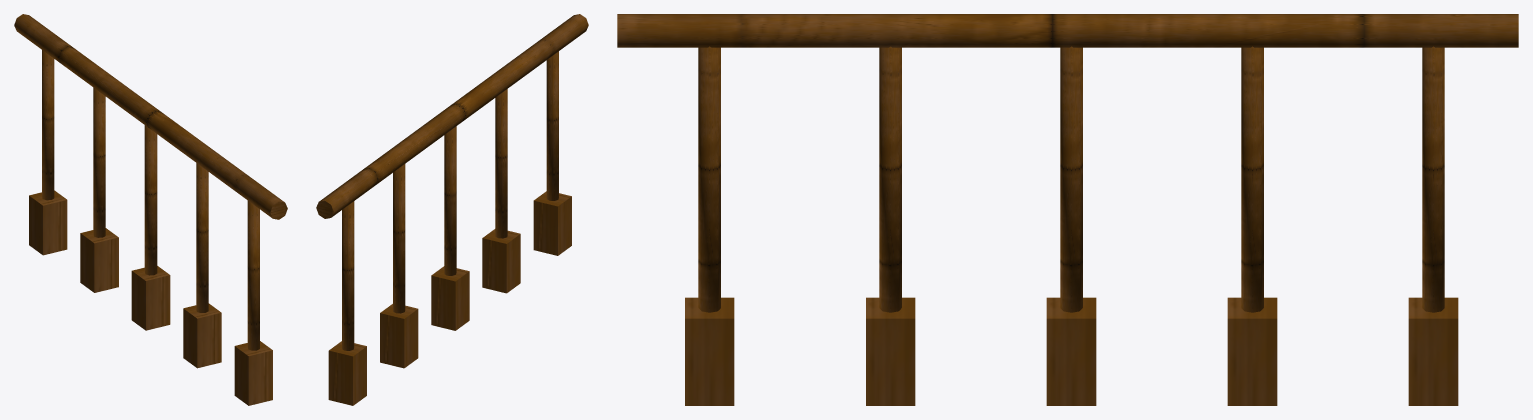
File: Railing.glb
3 renders of one model, left to right at view 1: azimuth 30°, elevation 25°; view 2: azimuth 150°, elevation 25°; view 3: azimuth 270°, elevation 25°, orthographic. The views are drawn at different scales.
Visible parts, largest first — view 1: Railing; view 2: Railing; view 3: Railing.
Part boxes in pixels (bbox=[...]): Railing: bbox=[14, 14, 287, 405]; Railing: bbox=[316, 14, 588, 405]; Railing: bbox=[617, 14, 1518, 405].
Size of the model in its own units: 0.11 by 0.9303 by 2.
1 material, 1 textured.
